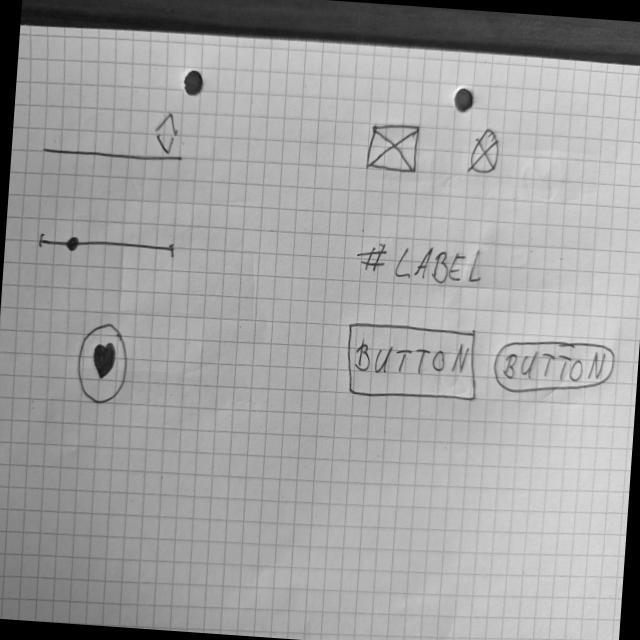button: (344, 320, 482, 406), (491, 334, 617, 402)
icon-button: (75, 321, 132, 408)
image: (366, 121, 422, 178), (465, 127, 504, 177)
label: (354, 239, 486, 291)
number-input: (41, 103, 187, 167)
slider: (37, 230, 180, 261)
